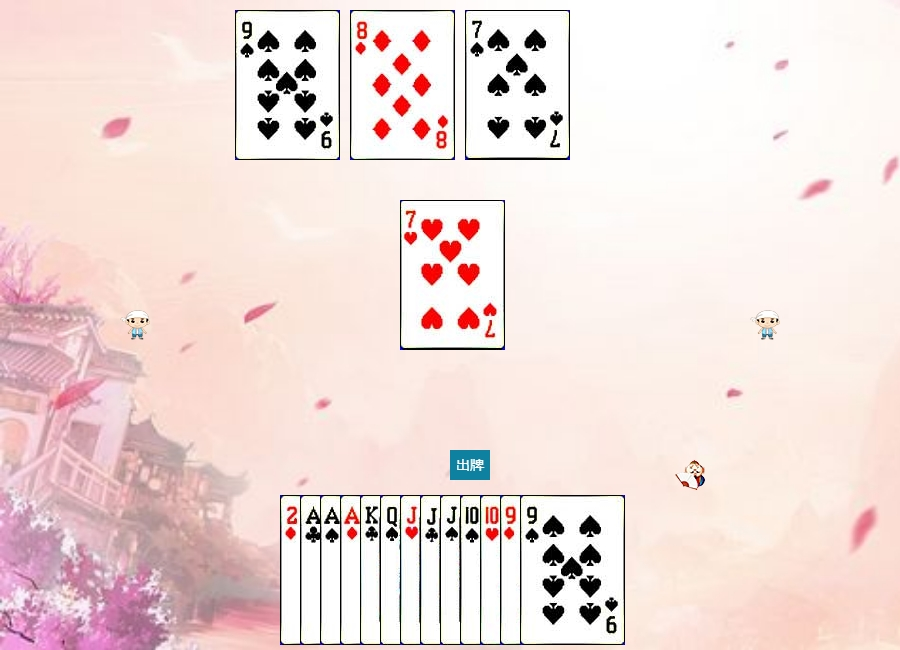10~3: (480, 495, 585, 645)
10~4: (460, 495, 565, 645)
11~2: (420, 495, 525, 645)
11~3: (400, 495, 505, 645)
11~4: (440, 495, 545, 645)
12~4: (380, 495, 485, 645)
13~2: (360, 495, 465, 645)
14~1: (340, 495, 445, 645)
14~2: (300, 495, 405, 645)
14~4: (320, 495, 425, 645)
15~1: (280, 495, 385, 645)
7~3: (400, 200, 505, 350)
7~4: (465, 10, 570, 160)
8~1: (350, 10, 455, 160)
9~1: (500, 495, 605, 645)
9~4: (235, 10, 340, 160), (520, 495, 625, 645)
